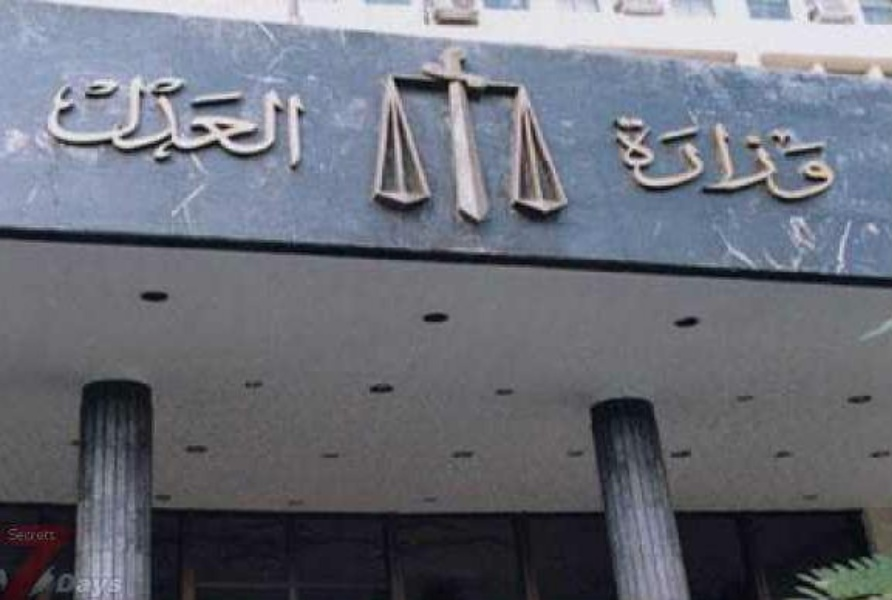text: (289, 69, 305, 161), (49, 69, 64, 161), (65, 69, 80, 161), (81, 69, 96, 161), (97, 69, 112, 161), (113, 69, 128, 161), (129, 69, 144, 161), (145, 69, 160, 161), (161, 69, 176, 161), (177, 69, 192, 161), (193, 69, 208, 161), (209, 69, 224, 161), (225, 69, 240, 161), (241, 69, 256, 161), (257, 69, 272, 161), (273, 69, 288, 161), (625, 113, 640, 203), (641, 113, 656, 203), (657, 113, 672, 203), (673, 113, 688, 203), (689, 113, 704, 203), (705, 113, 720, 203), (721, 113, 736, 203), (737, 113, 752, 203), (753, 113, 768, 203), (769, 113, 784, 203), (785, 113, 800, 203), (801, 113, 816, 203), (817, 113, 832, 203), (614, 113, 624, 203), (44, 69, 48, 161), (833, 113, 835, 203)
